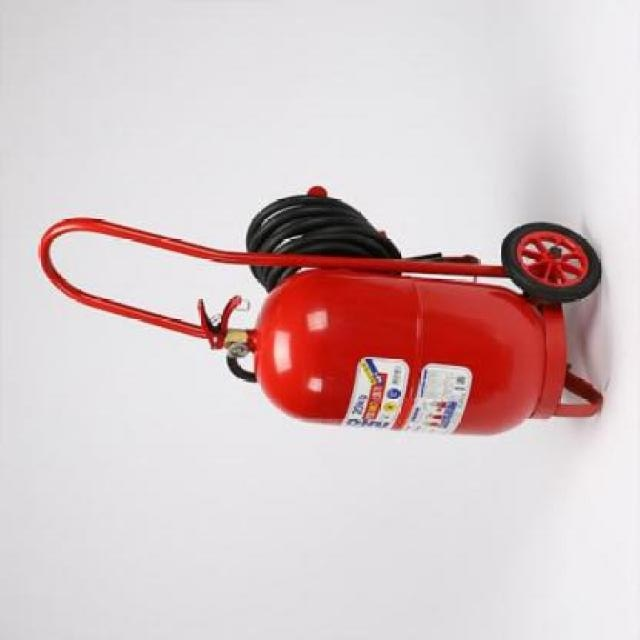fire extinguisher: (197, 268, 546, 437)
